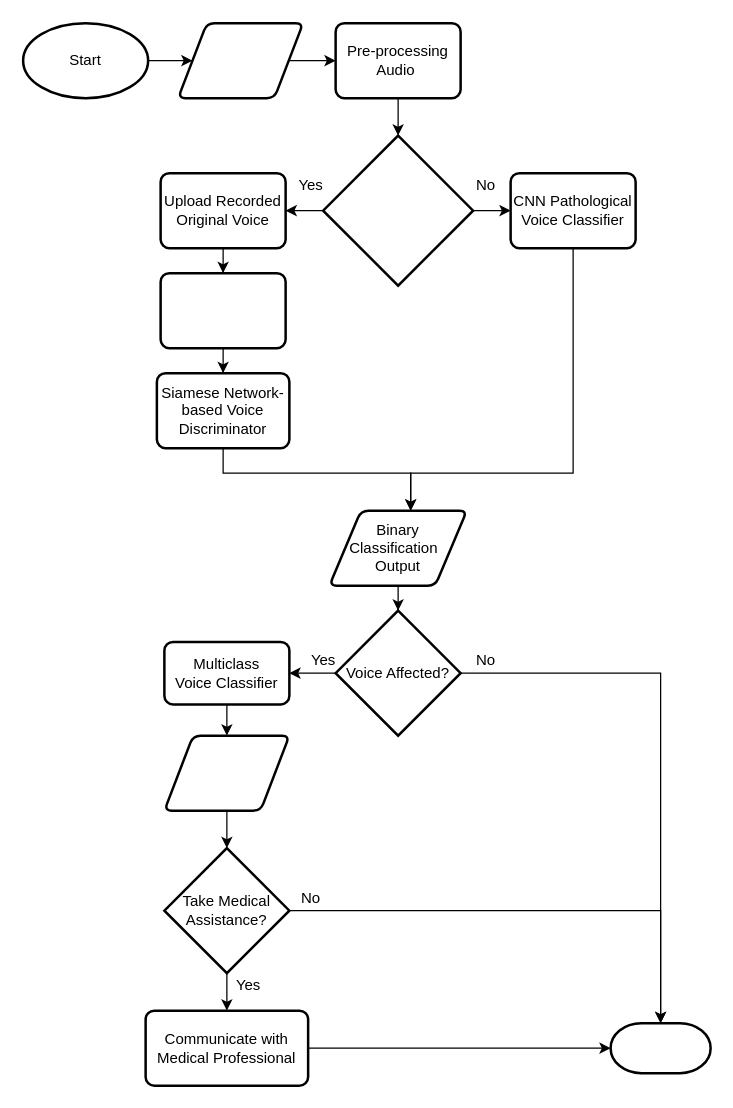
Image size: 733x1108. Some labels were removed from this diagram. The shapes that lost their labels are listed below. From the top down, each one's centre as x and y in pixels, then its label:
At pixel 240 60: "Audio Input".
At pixel 397 210: "Original Voice Previously Recorded".
At pixel 222 310: "Pre-processing Original voice".
At pixel 226 772: "Multiclass Classification Output".
At pixel 660 1047: "Stop".
